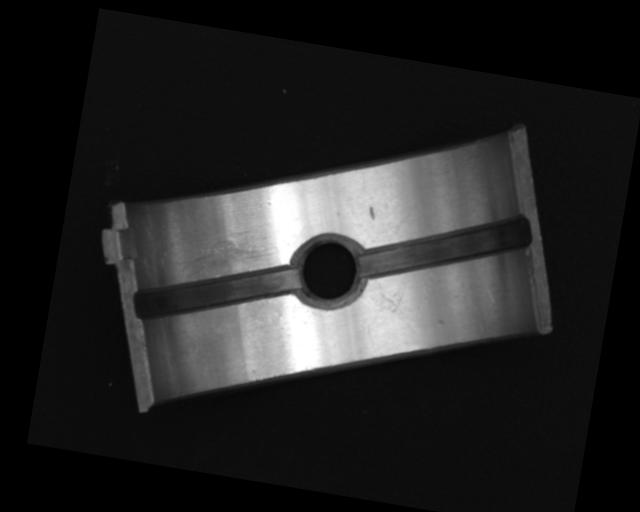bruise: (366, 204, 377, 220)
gap: (357, 190, 532, 303), (130, 245, 300, 344)
hole: (287, 229, 370, 314)
scratch: (173, 228, 274, 290)
